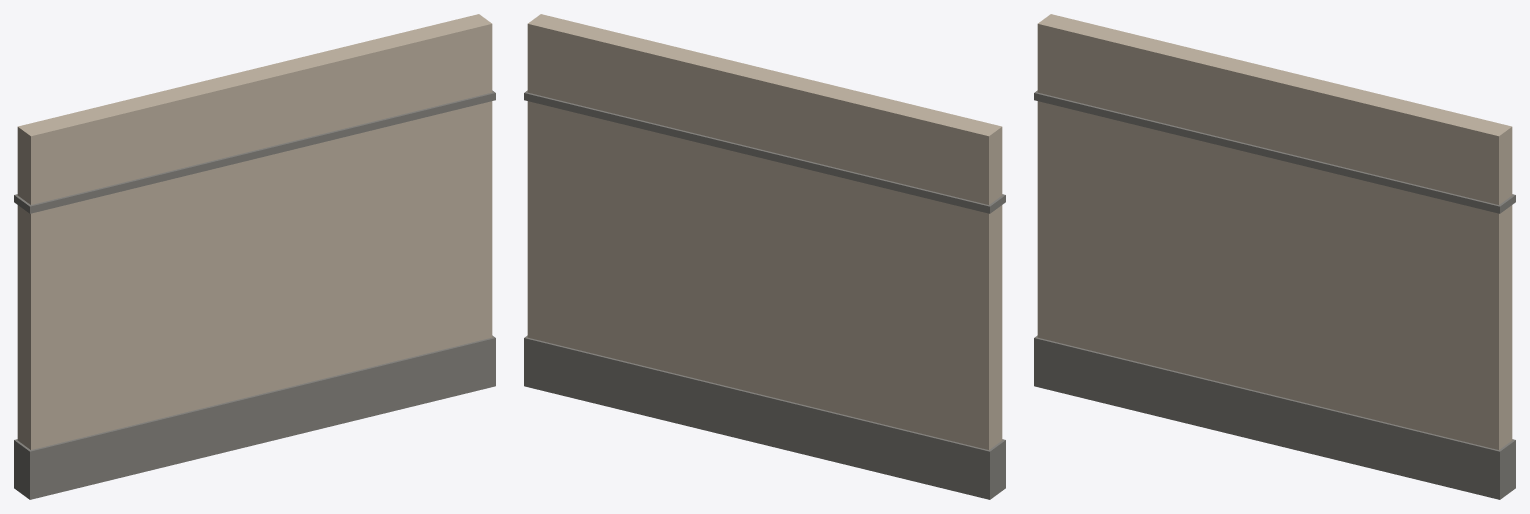
Rendered from SM_P1_House_Wall_A.obj.
3 views of the same model, side by side, from view 1: azimuth 30°, elevation 25°; view 2: azimuth 150°, elevation 25°; view 3: azimuth 330°, elevation 25° (orthographic).
Visible parts, largest first — view 1: wall_body, plinth, string_course; view 2: wall_body, plinth, string_course; view 3: wall_body, plinth, string_course.
Part boxes in pixels (left/top/right/bottom): wall_body: left=17, top=14, right=492, bottom=449; plinth: left=14, top=335, right=495, bottom=499; string_course: left=14, top=90, right=495, bottom=213; wall_body: left=527, top=14, right=1002, bottom=449; plinth: left=524, top=335, right=1005, bottom=499; string_course: left=524, top=90, right=1005, bottom=213; wall_body: left=1037, top=14, right=1512, bottom=449; plinth: left=1034, top=335, right=1515, bottom=499; string_course: left=1034, top=90, right=1515, bottom=213.
Size of the model in its own units: 4.04 by 3 by 0.24.
